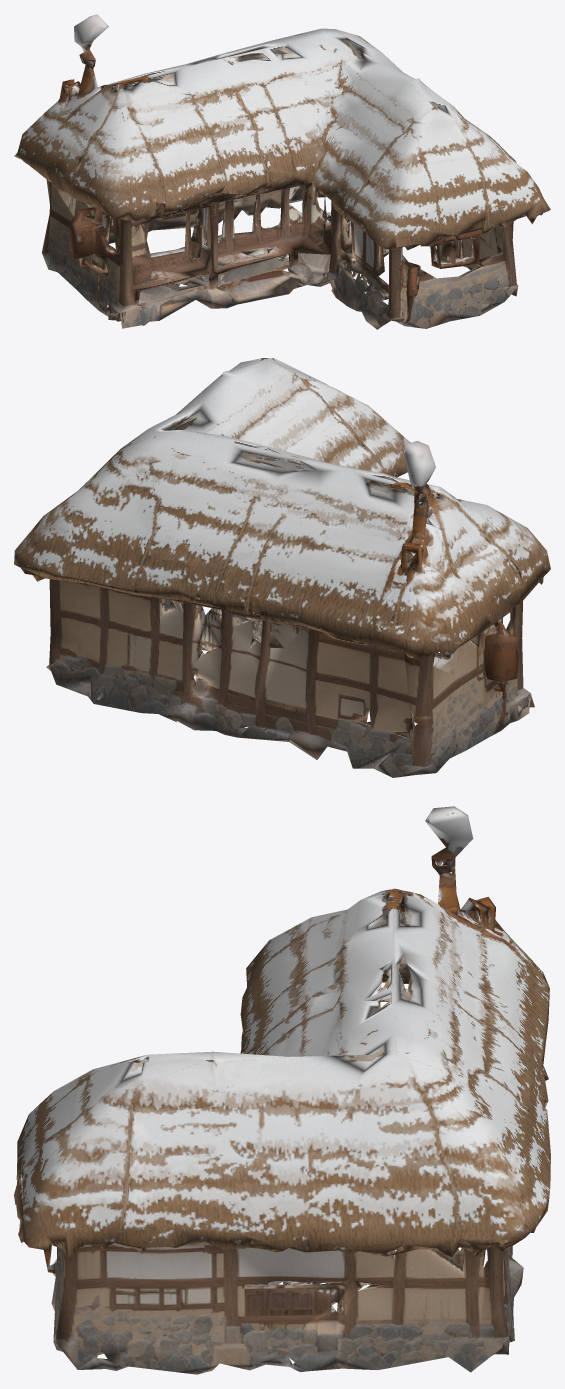
Rendered from PR_Chogajip.fbx.
3 views of the same model, one above another, from view 1: azimuth 30°, elevation 25°; view 2: azimuth 150°, elevation 25°; view 3: azimuth 270°, elevation 25° (orthographic). The views are drawn at different scales.
Parts seen in each view (by area): view 1: texture_mapping; view 2: texture_mapping; view 3: texture_mapping.
Boxes of the visible parts, bbox=[...] form: texture_mapping: bbox=[14, 14, 550, 329]; texture_mapping: bbox=[14, 358, 550, 777]; texture_mapping: bbox=[14, 806, 550, 1374].
Bounding box in the file's own units: 0.986 × 0.877 × 0.6621.
1 material, 1 textured.
